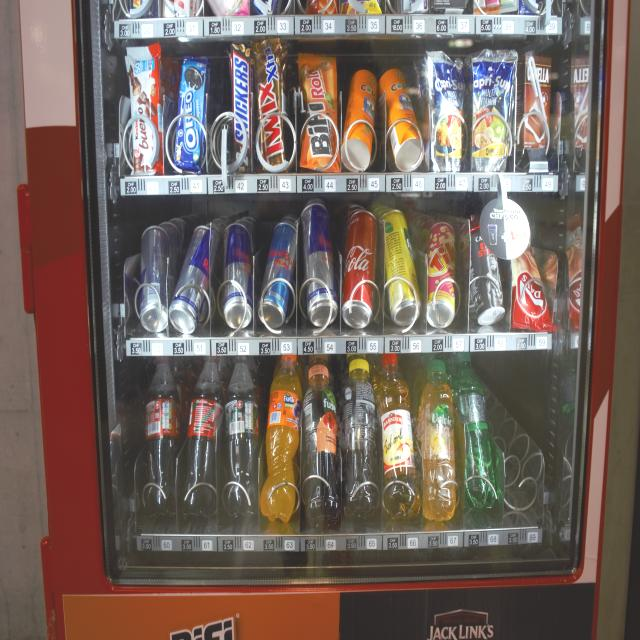7days_croissantschoko_packung_80_1_0000000000003: (509, 223, 554, 333)
bifi_roll__50__4251097402635: (296, 46, 342, 175)
bueno___43__4008400320328: (121, 39, 168, 178)
c-swiss_dosenabisicetea__33__9120025930135: (376, 63, 428, 179), (344, 59, 378, 172)
caferoyal_classicmacchiato__33__7617014164487: (468, 212, 507, 326)
caprisun_multivitamin__20__4000177605004: (467, 45, 520, 179), (425, 42, 468, 177)
coke__flasche_50__54491472: (181, 356, 226, 520), (146, 358, 181, 512), (340, 202, 380, 336)
coke_zero_flasche_50__5449000131836: (222, 359, 264, 519)
comella_schokodrink__33__7613100037253: (520, 49, 556, 189)
fanta___50__40822938: (260, 350, 302, 526)
fuse_lemon__50__5449000235947: (342, 356, 380, 524)
fuse_lemon_dose_33__5449000235947: (383, 207, 423, 324)
fuse_peach__50__5449000236623: (298, 362, 340, 534)
oreo___66__84100733: (173, 54, 214, 174)
ramseier_schorle__50__7610057012456: (373, 347, 423, 529)
redbull___33__90162909: (169, 210, 216, 338), (297, 193, 338, 339), (217, 219, 259, 338), (139, 223, 171, 328)
redbull_light__33__90162800: (258, 212, 305, 334)
snickers___50__5000159461122: (255, 37, 288, 175), (228, 42, 258, 182)
tiki_himbeerbrause_dose_33_1_: (426, 221, 460, 326)
valser_classic__50__76404160: (451, 352, 501, 512)
volvic_pinapple__50__305764335648: (415, 356, 463, 532)
